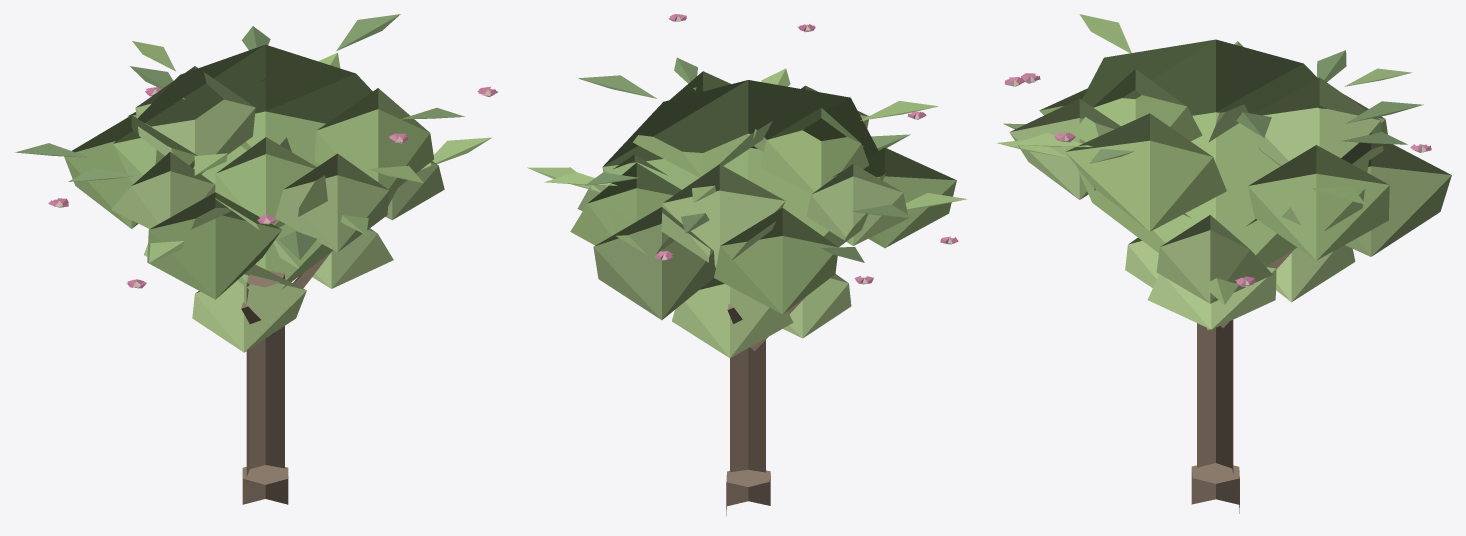
The model's file is shu.xiangzhang@flowering__bloom.glb.
3 views of the same model, side by side, from view 1: azimuth 30°, elevation 25°; view 2: azimuth 150°, elevation 25°; view 3: azimuth 270°, elevation 25° (orthographic). The views are drawn at different scales.
Parts seen in each view (by area): view 1: shu.xiangzhang@flowering__bloom; view 2: shu.xiangzhang@flowering__bloom; view 3: shu.xiangzhang@flowering__bloom.
Boxes of the visible parts, x1,y1,x2,y2 form: shu.xiangzhang@flowering__bloom: [15, 14, 497, 504]; shu.xiangzhang@flowering__bloom: [527, 14, 967, 515]; shu.xiangzhang@flowering__bloom: [997, 14, 1451, 513].
Bounding box in the file's own units: 17.03 × 17.47 × 15.63.
